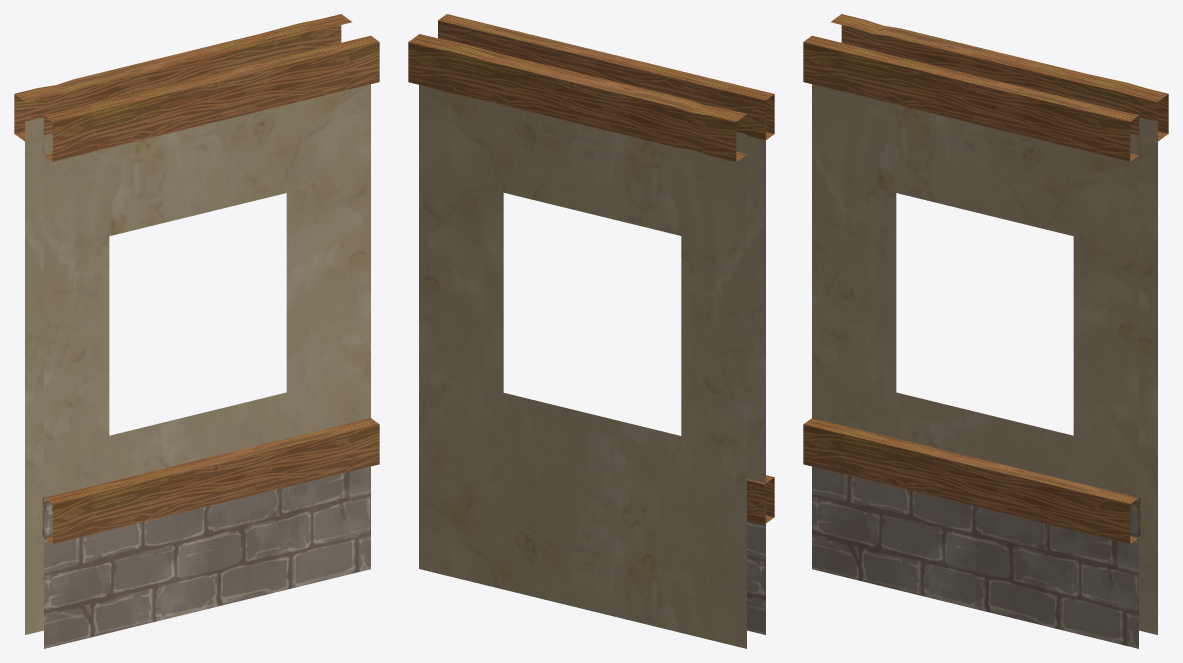
File: Wall_Plaster_Window_Wide_Flat.gltf
The picture shows the model from 3 angles, left to right: view 1: azimuth 30°, elevation 25°; view 2: azimuth 150°, elevation 25°; view 3: azimuth 330°, elevation 25°; orthographic projection.
Visible parts, largest first — view 1: Wall_Plaster_Window_Wide_Flat; view 2: Wall_Plaster_Window_Wide_Flat; view 3: Wall_Plaster_Window_Wide_Flat.
Part boxes in pixels (box(x1,y1,x2,y2)): Wall_Plaster_Window_Wide_Flat: box(14, 14, 379, 648); Wall_Plaster_Window_Wide_Flat: box(408, 14, 774, 648); Wall_Plaster_Window_Wide_Flat: box(803, 14, 1168, 648).
Bounding box in the file's own units: 2 × 3.12 × 0.4065.
3 materials, 3 textured.
